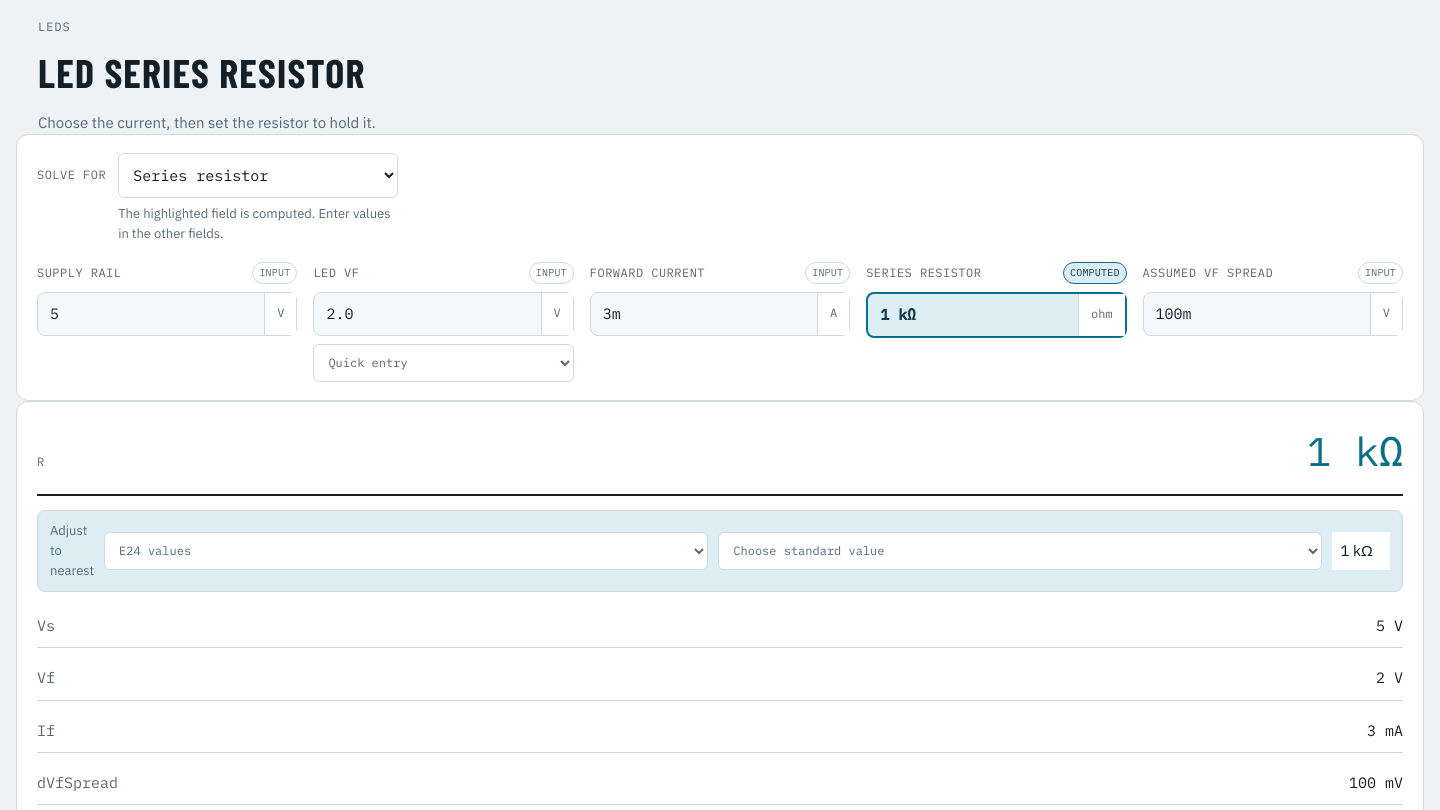
Test: LedResistorView › shows the fail check when Vf is at or above the rail
Replace the text in the field labelled "LED Vf" with "9" at (428, 314), box [314,293,541,335]
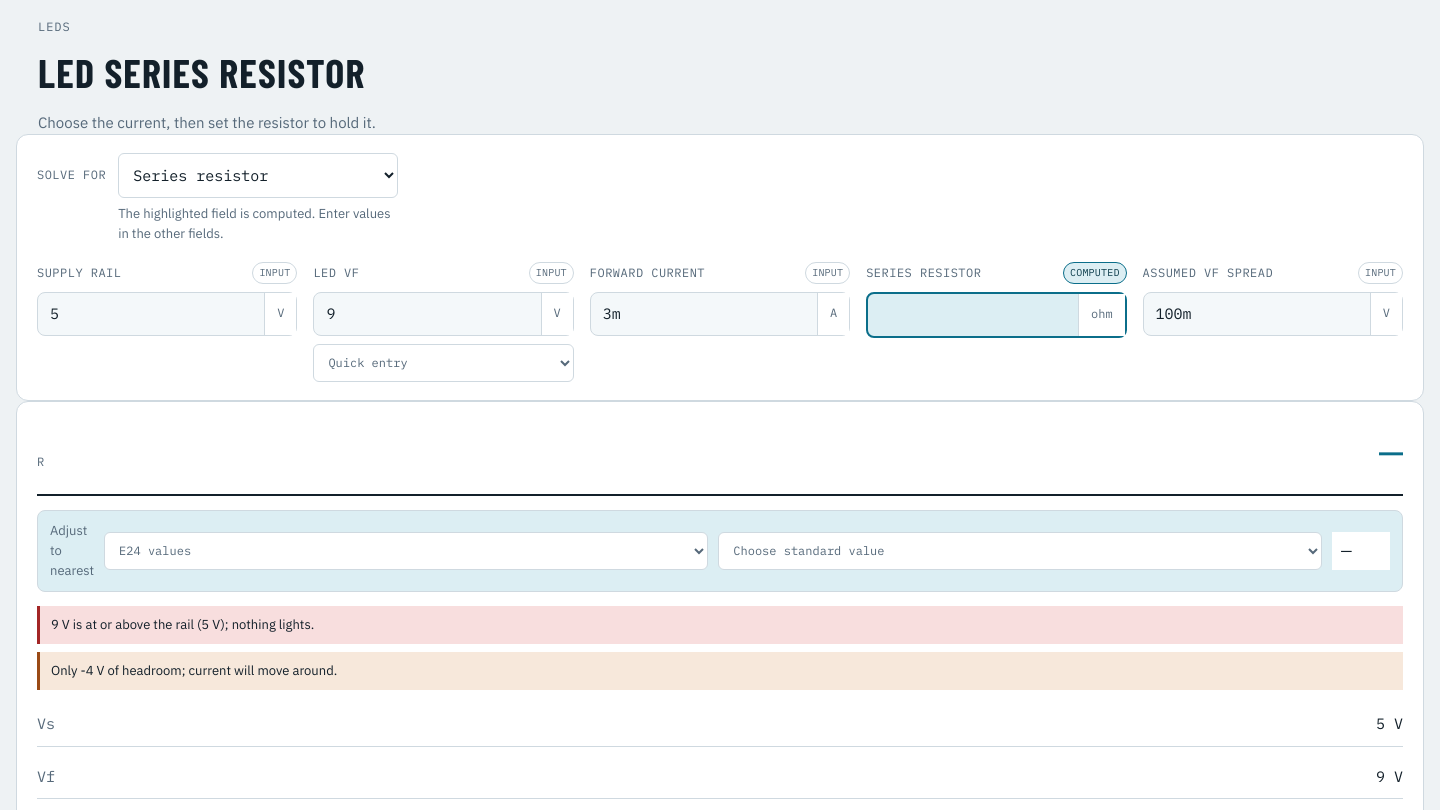
expect the text "9 V is at or above the rail (5 V); nothing lights." is shown: met, box [37,606,1403,644]
